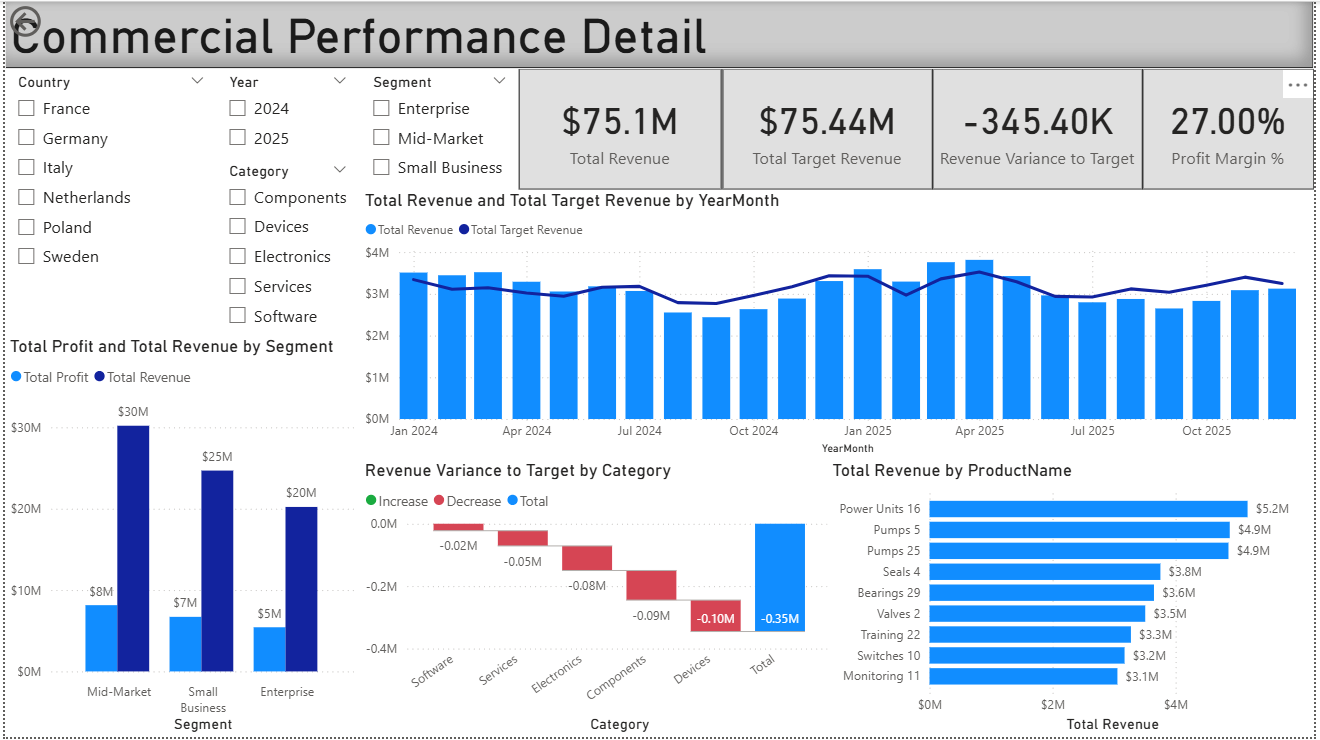

Layout of this report page (visuals, bound fields, positions):
{"tool":"powerbi","page":{"name":"Commercial Performance Detail","canvas":[1280,720],"ordinal":1},"visuals":[{"type":"slicer","fields":{"Values":["Dim_Date.Year"]},"box":[207.1,65.7,140,87.1],"z":0},{"type":"slicer","fields":{"Values":["Dim_Products.Category"]},"box":[207.1,152.9,140,174.3],"z":1000},{"type":"slicer","fields":{"Values":["Dim_Customers.Segment"]},"box":[347.1,65.7,155.7,118.6],"z":2000},{"type":"slicer","fields":{"Values":["Dim_Customers.Country"]},"box":[0,65.7,207.1,258.6],"z":3000},{"type":"card","fields":{"Values":["Measures (2).Total Revenue"]},"box":[502.9,65.7,198.6,118.6],"z":4000},{"type":"card","fields":{"Values":["Measures (2).Total Target Revenue"]},"box":[701.8,65.7,205.4,118.3],"z":5000},{"type":"card","fields":{"Values":["Measures (2).Revenue Variance to Target"]},"box":[907.2,65.7,205.4,118.3],"z":6000},{"type":"card","fields":{"Values":["Measures (2).Profit Margin %"]},"box":[1112.7,65.7,167.6,118.3],"z":7000},{"type":"textbox","title":"Commercial Performance Detail","box":[0,0,1280.3,65.7],"z":8000},{"type":"lineClusteredColumnComboChart","fields":{"Category":["Dim_Date.YearMonth"],"Y":["Measures (2).Total Revenue"],"Y2":["Measures (2).Total Target Revenue"]},"box":[347.1,184.3,932.9,264.3],"z":9000},{"type":"waterfallChart","fields":{"Y":["Measures (2).Revenue Variance to Target"],"Category":["Dim_Products.Category"]},"box":[347.1,448.6,467.1,271.4],"z":10000},{"type":"clusteredBarChart","fields":{"Category":["Dim_Products.ProductName"],"Y":["Measures (2).Total Revenue"]},"box":[804.3,448.6,475.7,271.4],"z":11000},{"type":"clusteredColumnChart","fields":{"Category":["Dim_Customers.Segment"],"Y":["Measures (2).Total Profit","Measures (2).Total Revenue"]},"box":[0,327.1,347.1,392.9],"z":12000},{"type":"actionButton","box":[0,0,100,40],"z":13000}]}

Visuals, with their boxes in screenshot pixels (x1, y1, x2, y2), scaled from the page's 1280x720 canvas onto the 1320x740 screenshot:
slicer - Dim_Date.Year: bbox=(214, 68, 358, 157)
slicer - Dim_Products.Category: bbox=(214, 157, 358, 336)
slicer - Dim_Customers.Segment: bbox=(358, 68, 519, 189)
slicer - Dim_Customers.Country: bbox=(0, 68, 214, 333)
card - Measures (2).Total Revenue: bbox=(519, 68, 723, 189)
card - Measures (2).Total Target Revenue: bbox=(724, 68, 936, 189)
card - Measures (2).Revenue Variance to Target: bbox=(936, 68, 1147, 189)
card - Measures (2).Profit Margin %: bbox=(1147, 68, 1319, 189)
"Commercial Performance Detail" textbox: bbox=(0, 0, 1319, 68)
lineClusteredColumnComboChart - Dim_Date.YearMonth x Measures (2).Total Revenue: bbox=(358, 189, 1319, 461)
waterfallChart - Measures (2).Revenue Variance to Target x Dim_Products.Category: bbox=(358, 461, 840, 739)
clusteredBarChart - Dim_Products.ProductName x Measures (2).Total Revenue: bbox=(829, 461, 1319, 739)
clusteredColumnChart - Dim_Customers.Segment x Measures (2).Total Profit: bbox=(0, 336, 358, 739)
actionButton: bbox=(0, 0, 103, 41)
